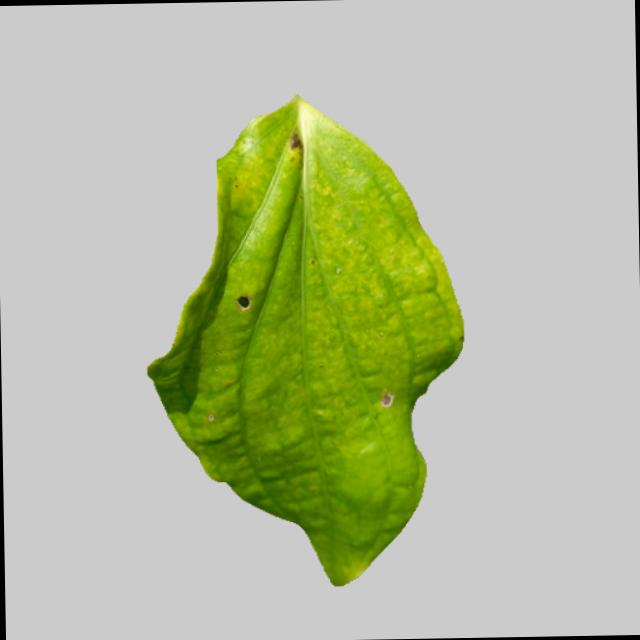yellow-mottle-virus: (132, 96, 501, 590)
